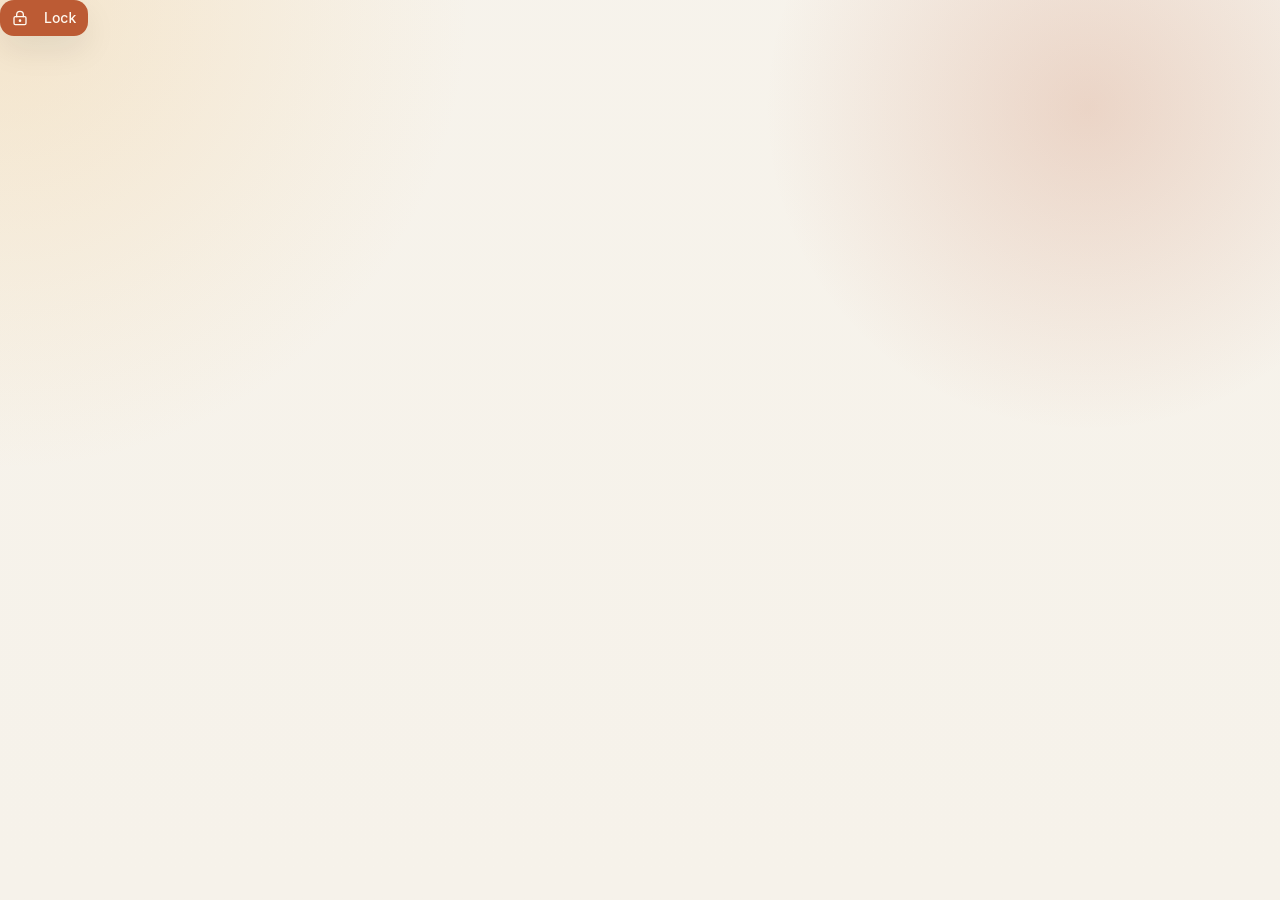
Test: MonthlyCycleLockButton › opens the required-input override modal and retries with a reason
Later steps or results of the test are not shown.
Step 1. Click the button "Lock" → (44, 18), box [0,0,88,36]
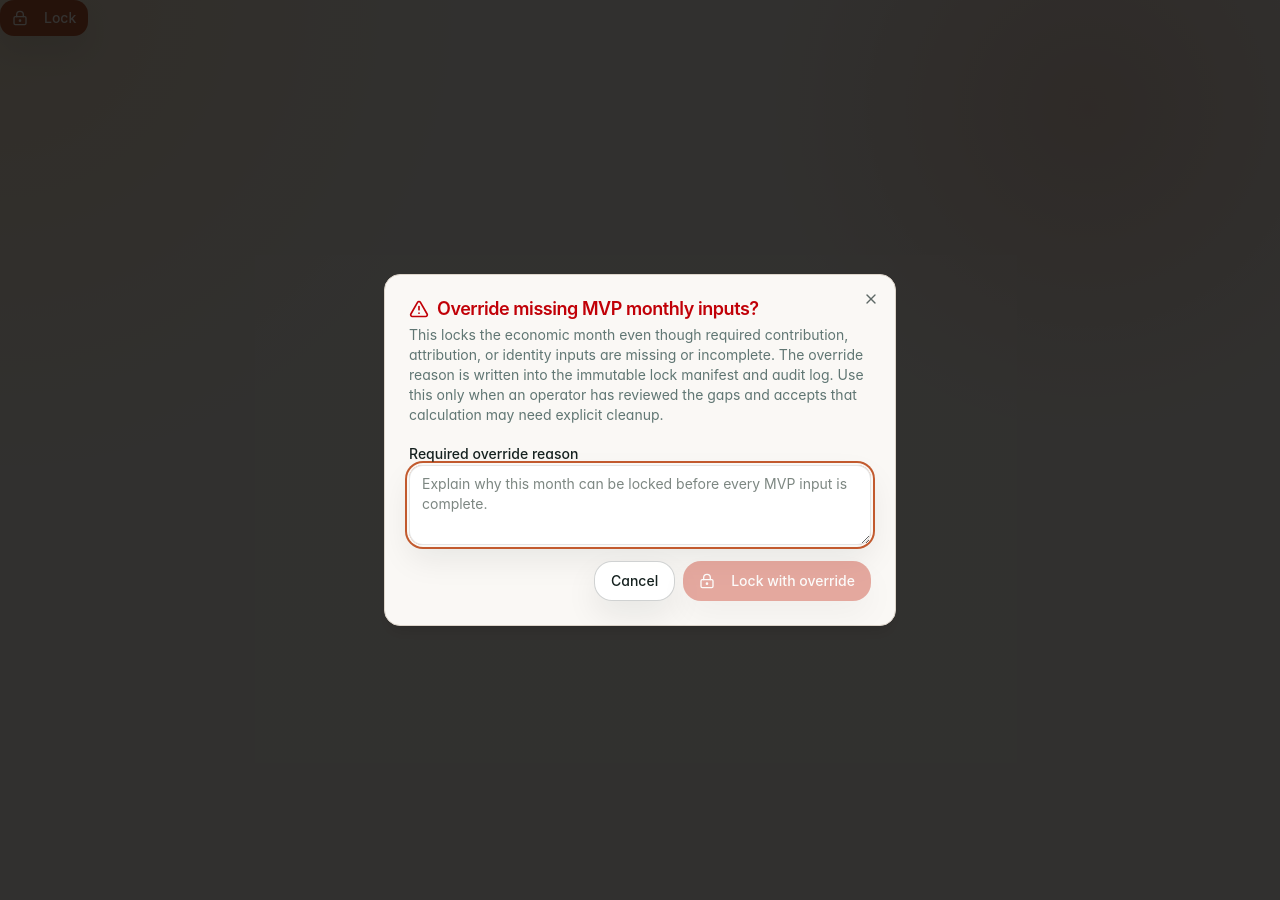
expect the heading "Override missing MVP monthly inputs?" is shown: met, box [409,298,759,319]
expect the button "Lock with override" is disabled: met, box [683,561,871,601]
